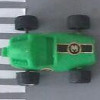verde_este: (3, 15, 93, 86)
